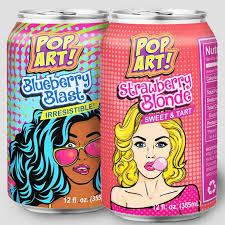Aluminum can: (105, 5, 223, 221), (4, 3, 104, 214)
